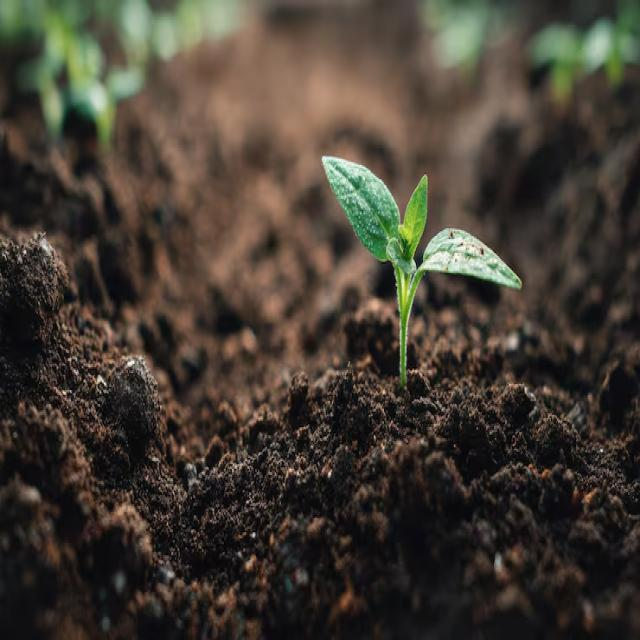suelo_humedo: (78, 235, 623, 610)
